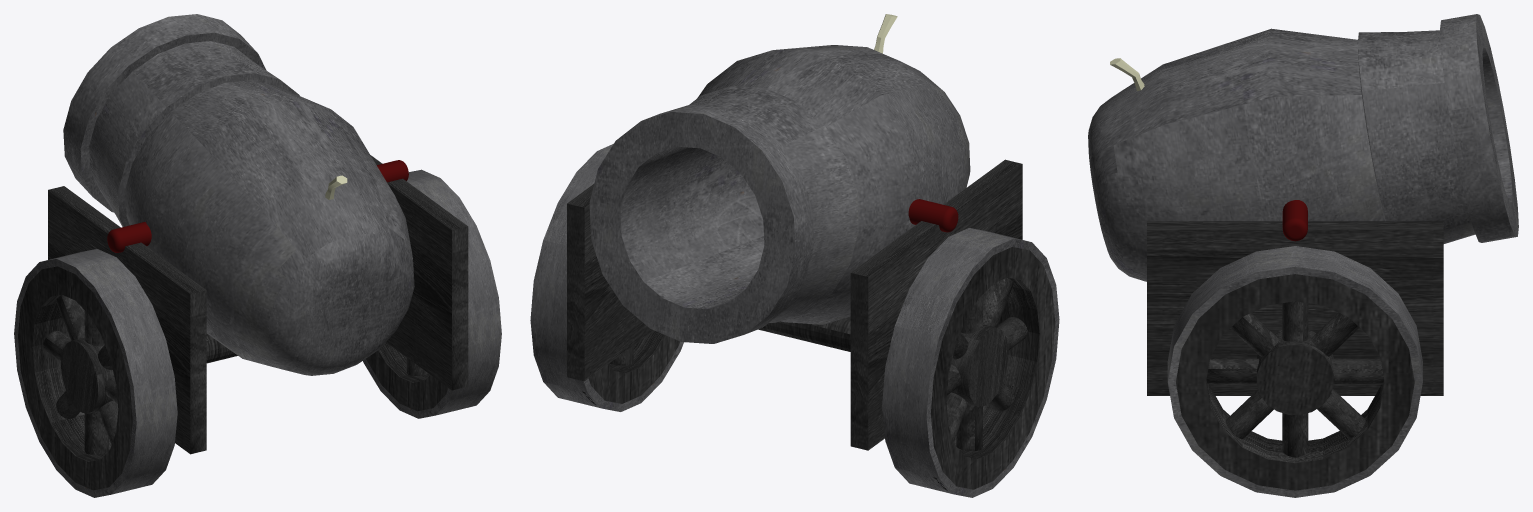
The model's file is KR_Model_Cannon_v03_Vang.fbx.
3 renders of one model, left to right at view 1: azimuth 30°, elevation 25°; view 2: azimuth 150°, elevation 25°; view 3: azimuth 270°, elevation 25°, orthographic. The views are drawn at different scales.
Visible parts, largest first — view 1: cannon, LeftW, plank1, plank, RightW, pCylinder1, pCylinder4, pCylinder2, metalholder1, pCylinder3, pCylinder5; view 2: cannon, LeftW, plank1, RightW, plank, pCylinder1 (×2), pCylinder5, pCylinder2, metalholder1, pCylinder3, pCylinder4; view 3: cannon, RightW, plank, pCylinder1, pCylinder3, pCylinder4, pCylinder5, pCylinder2, metalholder.
Part boxes in pixels (bbox=[...]): cannon: bbox=[63, 14, 414, 375]; LeftW: bbox=[14, 249, 177, 497]; plank1: bbox=[48, 186, 206, 454]; plank: bbox=[370, 155, 468, 390]; RightW: bbox=[363, 169, 501, 418]; pCylinder1: bbox=[61, 337, 113, 413]; pCylinder4: bbox=[56, 295, 118, 444]; pCylinder2: bbox=[84, 310, 108, 454]; metalholder1: bbox=[107, 222, 151, 252]; pCylinder3: bbox=[43, 331, 117, 403]; pCylinder5: bbox=[56, 345, 112, 418]; cannon: bbox=[589, 45, 970, 343]; LeftW: bbox=[882, 228, 1059, 497]; plank1: bbox=[850, 159, 1022, 450]; RightW: bbox=[530, 144, 683, 411]; plank: bbox=[567, 184, 653, 381]; pCylinder1 (×2): bbox=[758, 316, 1008, 406]; pCylinder5: bbox=[946, 278, 1013, 440]; pCylinder2: bbox=[956, 294, 982, 450]; metalholder1: bbox=[908, 199, 958, 232]; pCylinder3: bbox=[947, 317, 1027, 395]; pCylinder4: bbox=[952, 332, 1014, 411]; cannon: bbox=[1088, 14, 1518, 281]; RightW: bbox=[1167, 246, 1422, 497]; plank: bbox=[1147, 221, 1443, 395]; pCylinder1: bbox=[1256, 330, 1333, 414]; pCylinder3: bbox=[1206, 358, 1383, 384]; pCylinder4: bbox=[1230, 313, 1365, 438]; pCylinder5: bbox=[1225, 312, 1359, 439]; pCylinder2: bbox=[1282, 301, 1308, 457]; metalholder: bbox=[1282, 200, 1307, 241].
Bounding box in the file's own units: 2.85 × 2.72 × 2.8.
4 materials, 2 textured.
